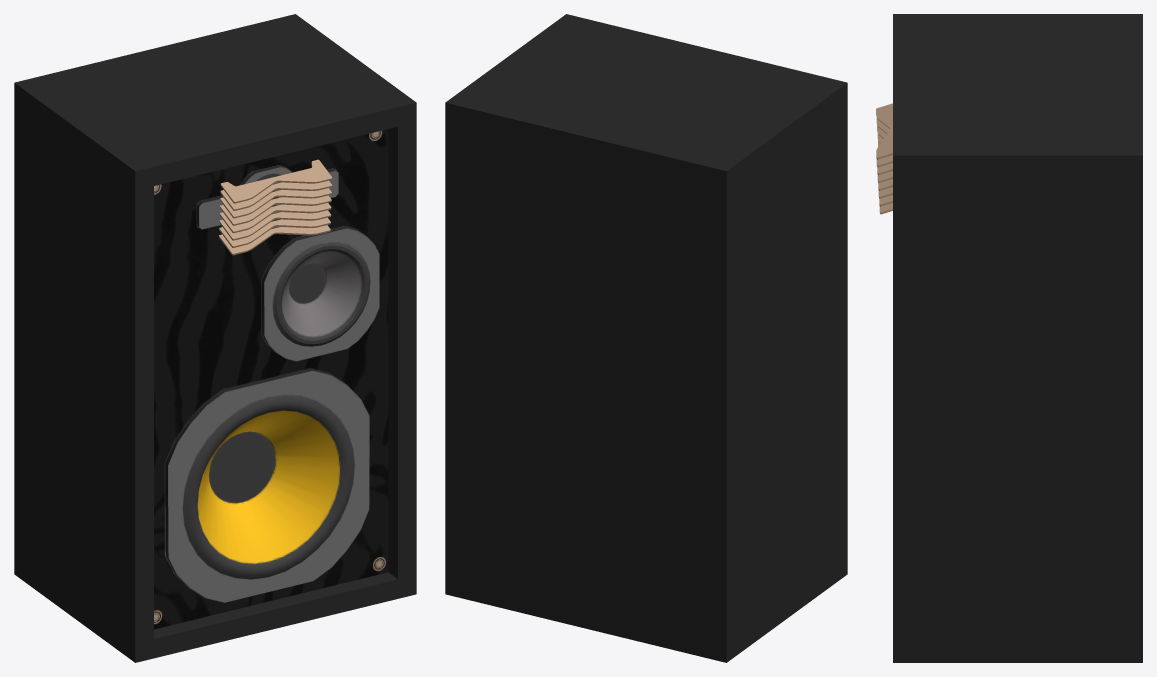
The model's file is react-Speaker.glb.
3 renders of one model, left to right at view 1: azimuth 30°, elevation 25°; view 2: azimuth 150°, elevation 25°; view 3: azimuth 270°, elevation 25°, orthographic. The views are drawn at different scales.
Visible parts, largest first — view 1: Speaker; view 2: Speaker; view 3: Speaker.
Part boxes in pixels (box(x1,y1,x2,y2)): Speaker: box(14, 14, 416, 662); Speaker: box(445, 14, 847, 662); Speaker: box(876, 14, 1142, 662).
Size of the model in its own units: 1.91 by 3.19 by 1.52.
2 materials, 1 textured.
